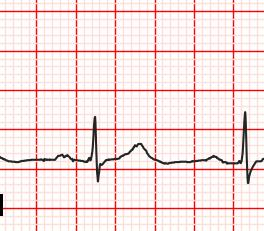ST Depression: (70, 151, 108, 184), (228, 152, 260, 187)
